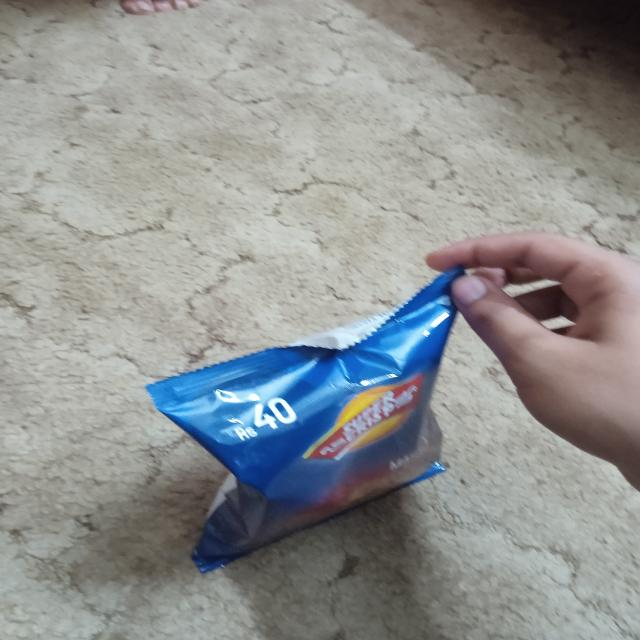Plastic: (138, 255, 502, 580)
